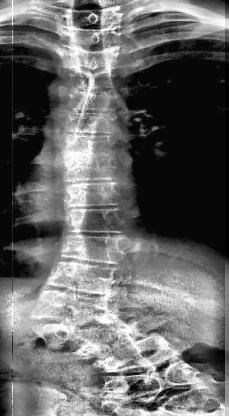Vertebrae: (104, 364, 200, 400), (89, 340, 172, 376), (30, 288, 110, 324), (46, 259, 120, 295), (60, 232, 128, 266), (74, 326, 140, 358), (40, 317, 116, 344), (59, 154, 123, 184), (62, 208, 130, 236), (60, 182, 124, 210), (63, 107, 121, 135), (60, 133, 119, 159), (64, 87, 122, 113), (66, 44, 122, 70), (67, 6, 123, 30), (65, 67, 119, 91), (66, 28, 124, 50)
